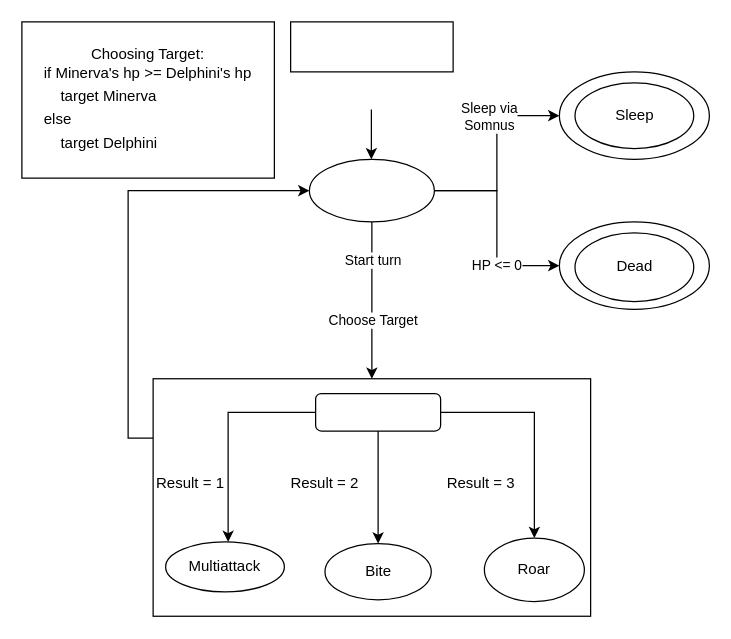
This 731x639 diagram has some shape labels left out. The shapes that lost their labels are listed below. From the top down, each one's centre as x and y in pixels, then its label:
At pixel 371 46: "Combat mode".
At pixel 371 190: "Waiting".
At pixel 377 411: "roll 1d3".
